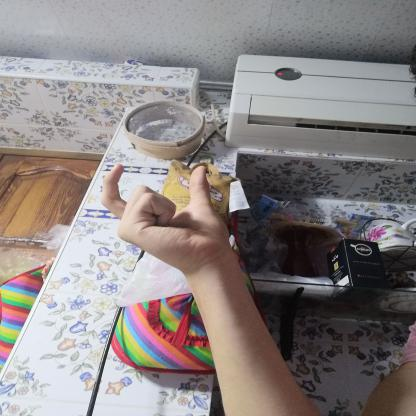NOON: (84, 152, 254, 279)
